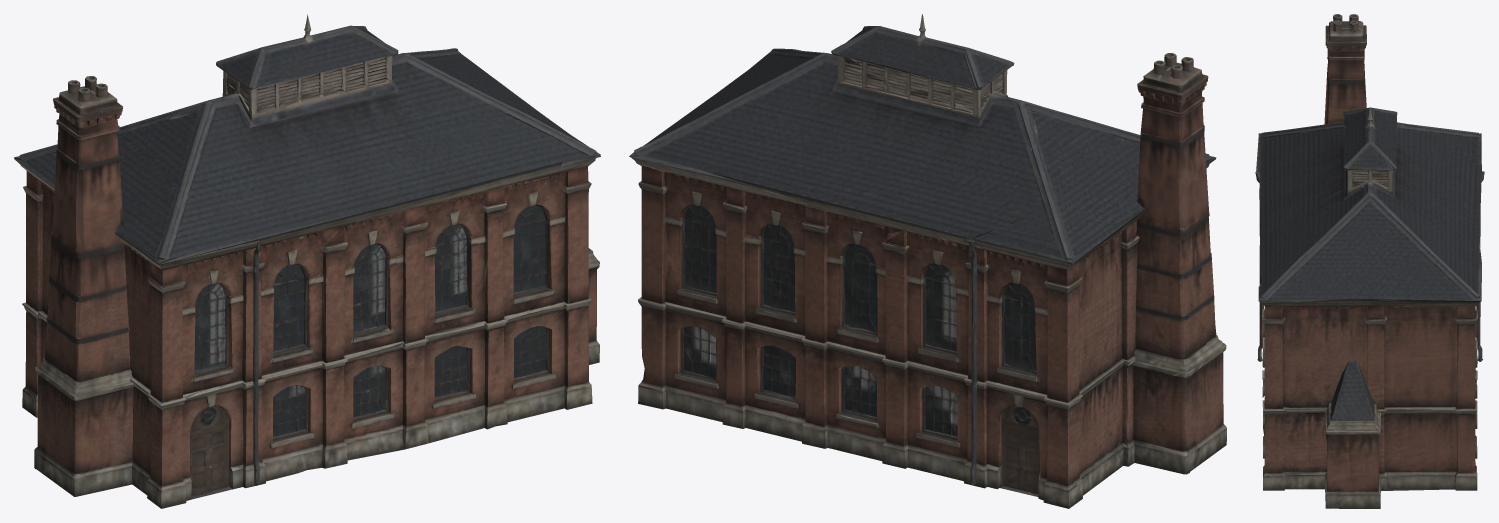
Rendered from winding_engine_house.glb.
The picture shows the model from 3 angles, left to right: view 1: azimuth 30°, elevation 25°; view 2: azimuth 150°, elevation 25°; view 3: azimuth 270°, elevation 25°; orthographic projection. The views are drawn at different scales.
Parts seen in each view (by area): view 1: main; view 2: main; view 3: main.
Boxes of the visible parts, x1,y1,x2,y2 form: main: (14, 14, 600, 508); main: (629, 14, 1226, 508); main: (1255, 14, 1484, 508).
Bounding box in the file's own units: 10.84 × 7.6 × 5.22.
Materials: 1 (1 with a texture image).
